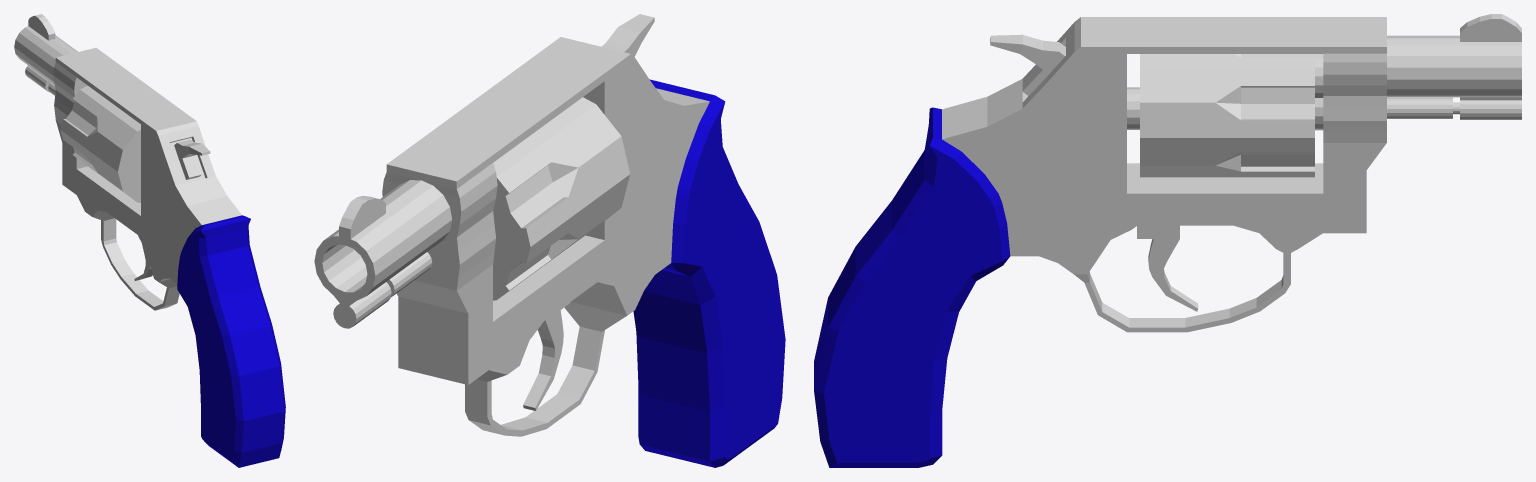
3 views of the same model, side by side, from view 1: azimuth 30°, elevation 25°; view 2: azimuth 150°, elevation 25°; view 3: azimuth 270°, elevation 25° (orthographic). The views are drawn at different scales.
Visible parts, largest first — view 1: Cylinder; view 2: Cylinder; view 3: Cylinder.
Boxes of the visible parts, bbox=[...] form: Cylinder: bbox=[14, 14, 285, 467]; Cylinder: bbox=[314, 14, 785, 467]; Cylinder: bbox=[814, 14, 1521, 467].
Size of the model in its own units: 2.59 by 13.31 by 9.05.
